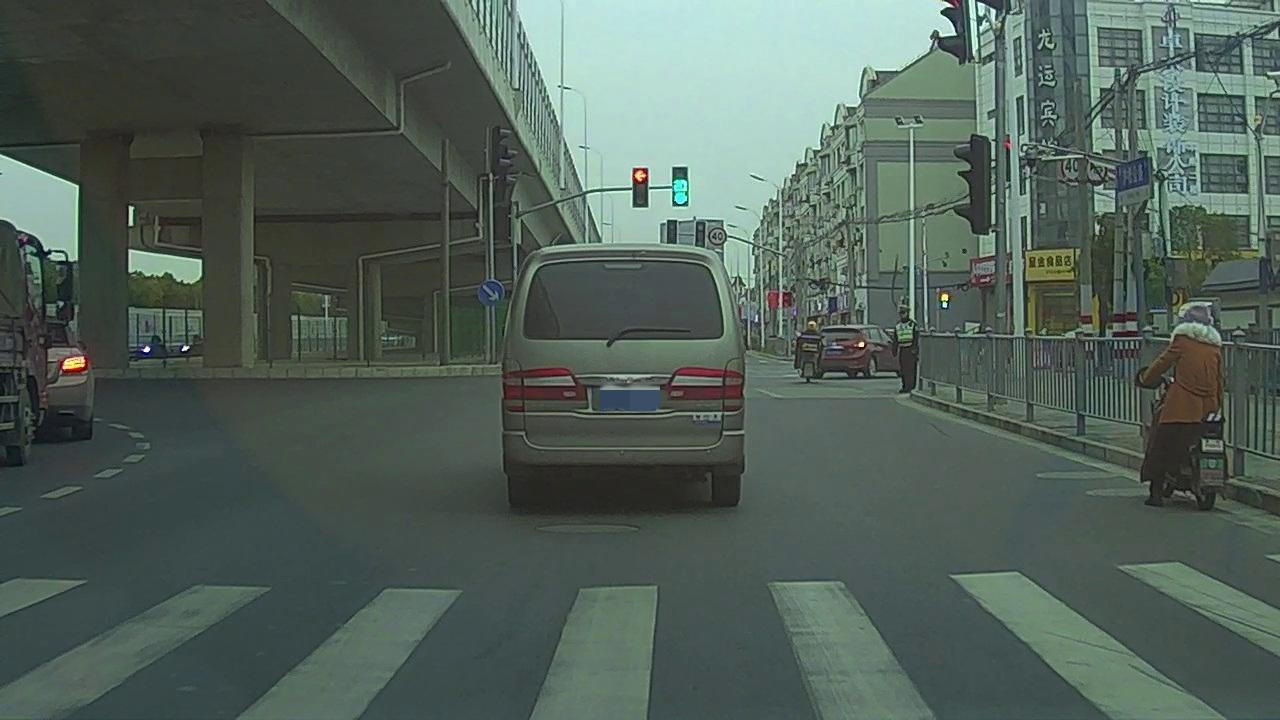traffic_light: (674, 167, 689, 205), (634, 170, 649, 207)
